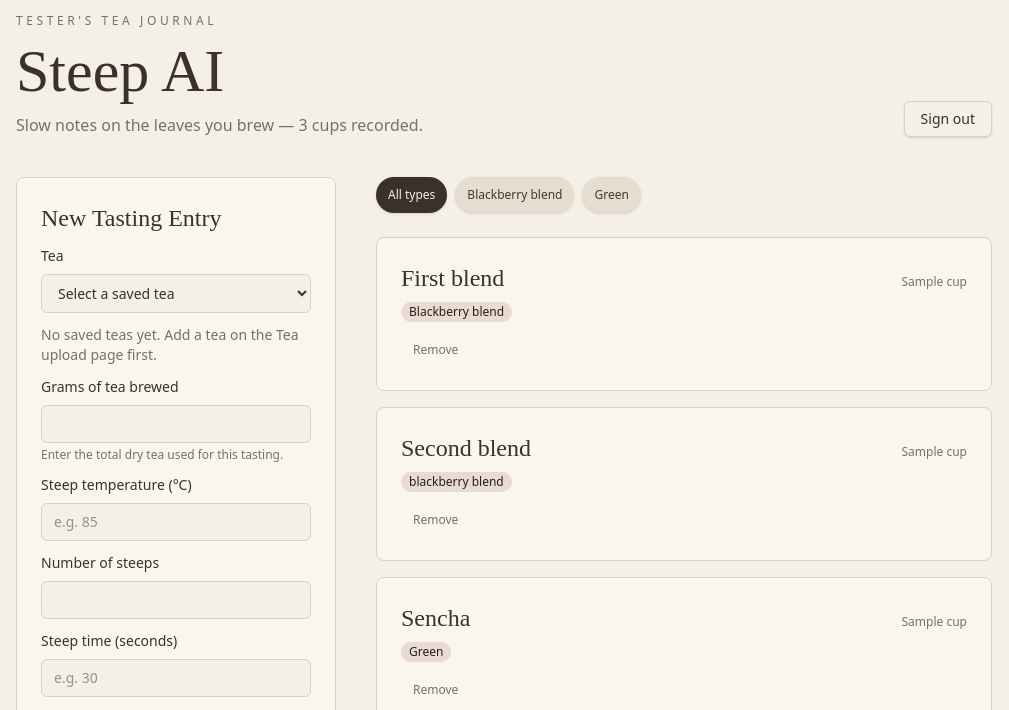
Test: journal tea selection › filters by saved tea types and groups capitalization variants together
Later steps or results of the test are not shown.
Click the button "Blackberry blend": (515, 195) [455,177,574,213]
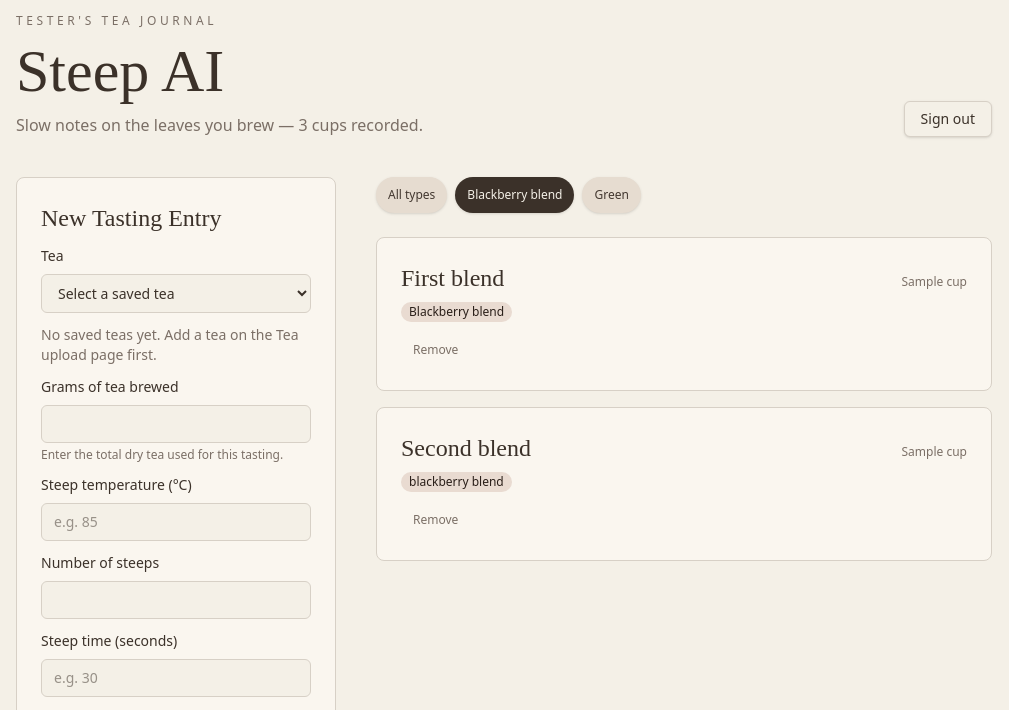
Expected: the heading "First blend" is shown, [401,262,504,294]
Expected: the heading "Sencha" is gone
